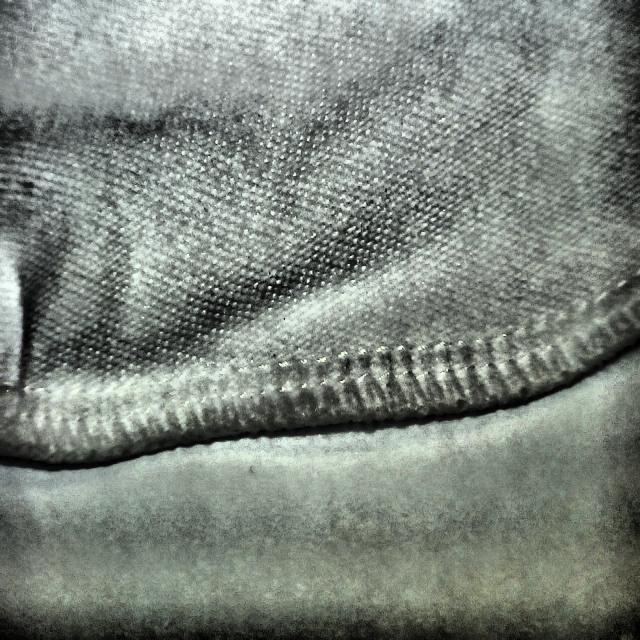gray stitch: (4, 286, 79, 460)
